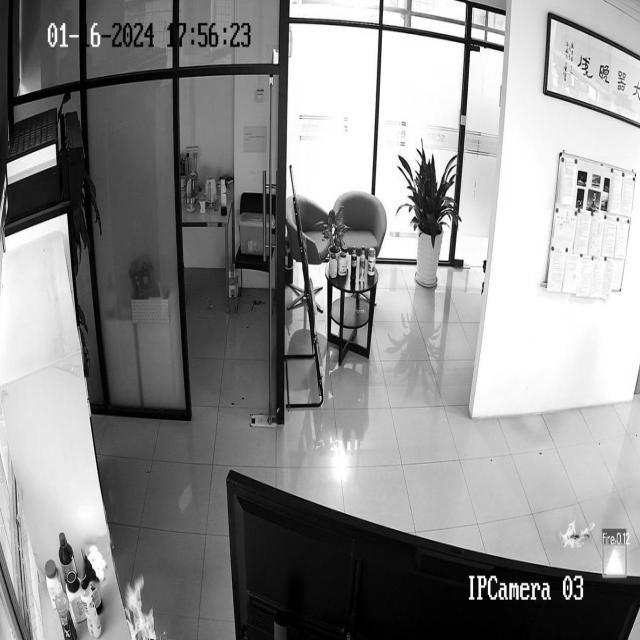smoke: (122, 558, 157, 640), (558, 516, 594, 550)
